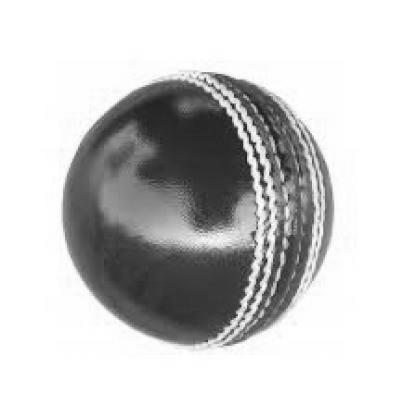bukan telur: (61, 69, 335, 349)
